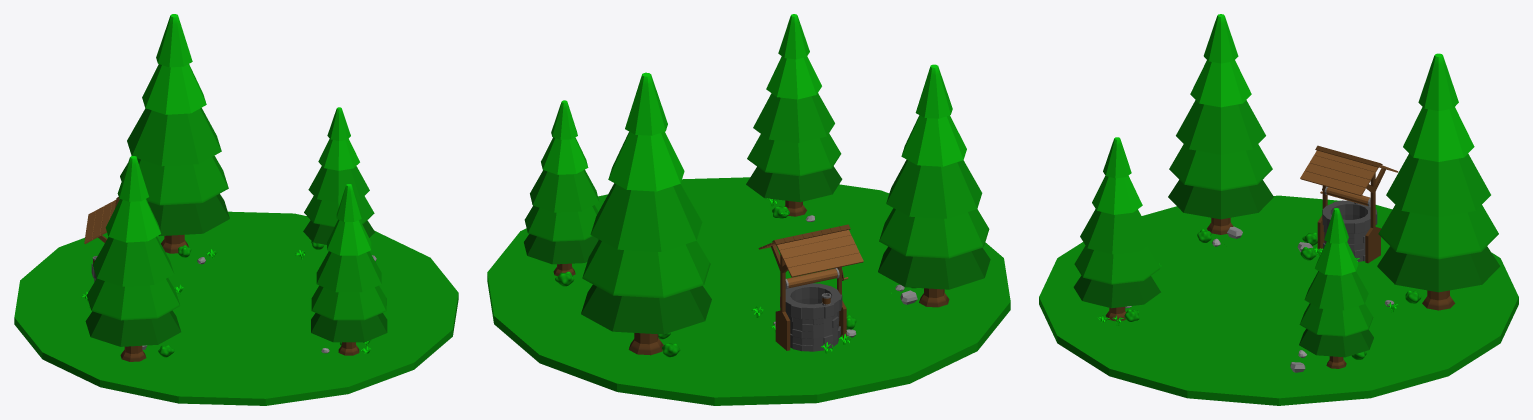
The model's file is Tempat Tharok.fbx.
3 views of the same model, side by side, from view 1: azimuth 30°, elevation 25°; view 2: azimuth 150°, elevation 25°; view 3: azimuth 270°, elevation 25° (orthographic). The views are drawn at different scales.
Parts seen in each view (by area): view 1: Tempat Tharoq; view 2: Tempat Tharoq; view 3: Tempat Tharoq.
Boxes of the visible parts, x1,y1,x2,y2 form: Tempat Tharoq: (14, 14, 458, 405); Tempat Tharoq: (487, 14, 1010, 405); Tempat Tharoq: (1039, 14, 1518, 405).
Bounding box in the file's own units: 4211 × 2477 × 4211.
